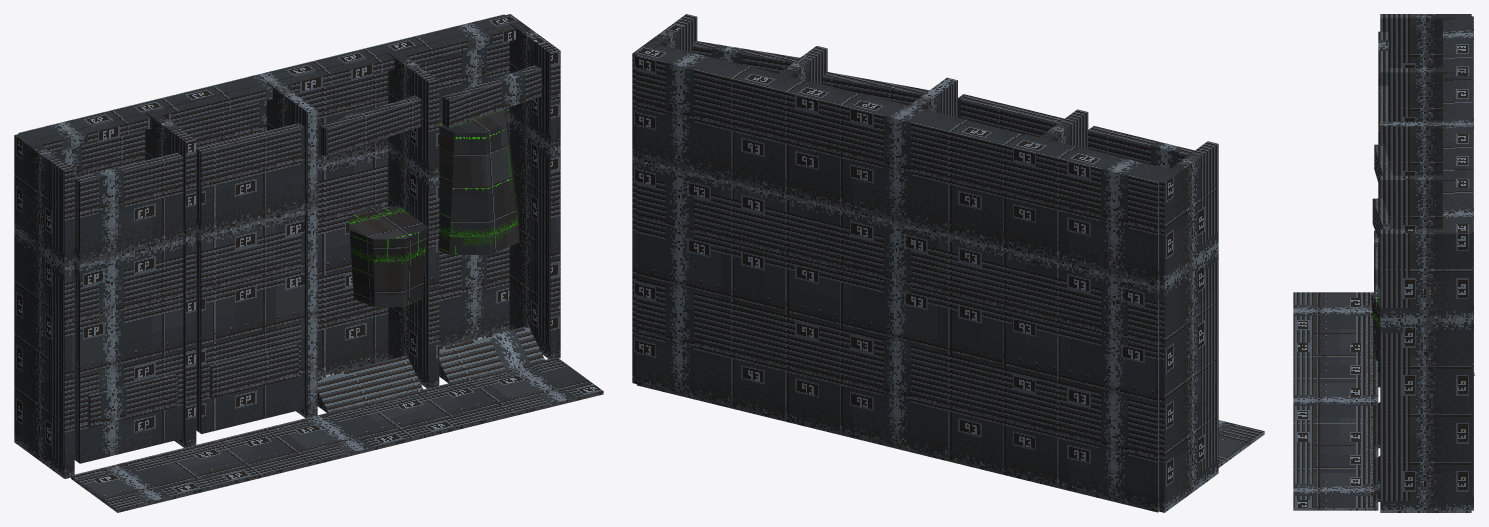
File: eps_arc_middle.glb
3 renders of one model, left to right at view 1: azimuth 30°, elevation 25°; view 2: azimuth 150°, elevation 25°; view 3: azimuth 270°, elevation 25°, orthographic. The views are drawn at different scales.
Parts seen in each view (by area): view 1: eps_arc_middle; view 2: eps_arc_middle; view 3: eps_arc_middle.
Boxes of the visible parts, x1,y1,x2,y2 form: eps_arc_middle: (14, 14, 603, 512); eps_arc_middle: (632, 14, 1264, 512); eps_arc_middle: (1293, 14, 1474, 512).
Bounding box in the file's own units: 4.9 × 2.9 × 1.71.
3 materials, 2 textured.
